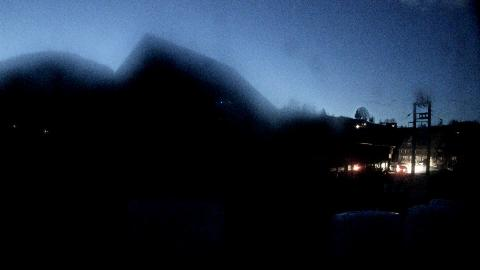car: (398, 164, 408, 174), (389, 164, 397, 172)
